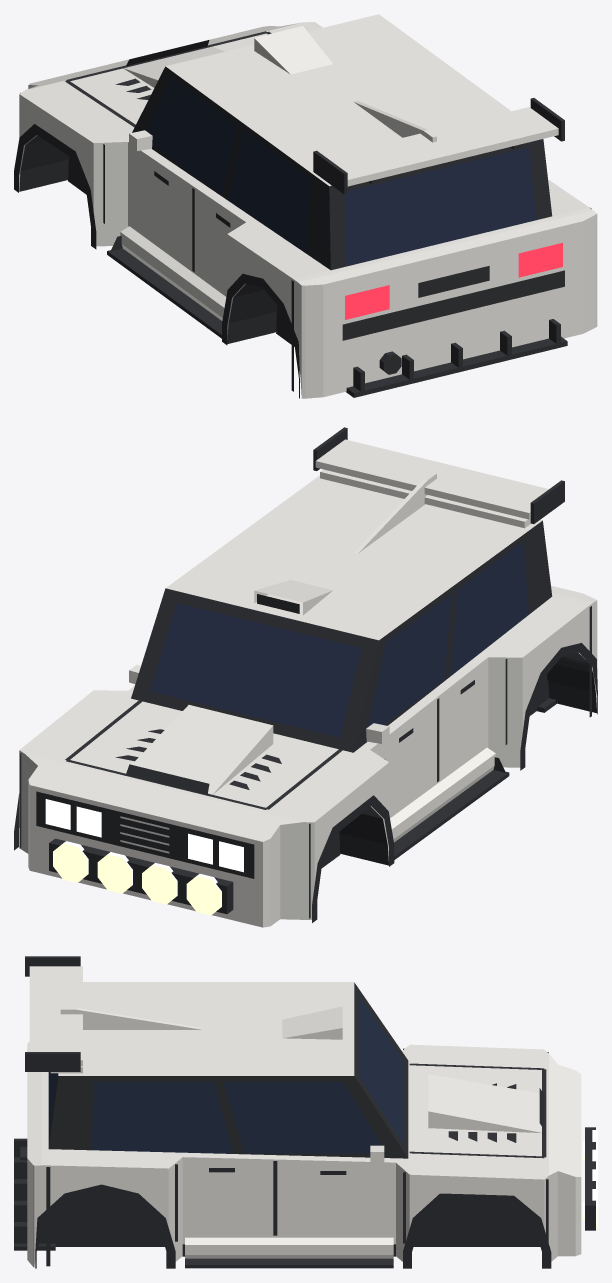
File: Furia.glb
The picture shows the model from 3 angles, top to bottom: view 1: azimuth 30°, elevation 25°; view 2: azimuth 150°, elevation 25°; view 3: azimuth 270°, elevation 25°; orthographic projection. The views are drawn at different scales.
Visible parts, largest first — view 1: BumperRear, Roof, RearWindow, Door_FL, Pillars, Opt_Wing_Rally_WingBlade, Hood, Window_FL, Window_RL, Cowl, Underbody, TailGarnish (+21 smaller); view 2: Roof, Windshield, BumperFront, Hood, Pillars, Opt_Wing_Rally_WingBlade, Opt_Hood_Scoop_HoodScoop, Door_RL, Window_FL, Window_RL, Grille, Opt_Bumper_Lamps_RallyLamp (+20 smaller); view 3: Roof, Hood, Door_FR, WheelWell, Window_FR, Window_RR, Pillars, Door_RR, BumperFront, Opt_Hood_Scoop_HoodScoop, Opt_Skirts_Side_AccSkirt_R, Opt_Wing_Rally_WingBlade (+15 smaller).
Part boxes in pixels (x1=…): BumperRear: x1=295, y1=208, x2=597, y2=398; Roof: x1=166, y1=14, x2=510, y2=186; RearWindow: x1=344, y1=147, x2=536, y2=266; Door_FL: x1=99, y1=142, x2=194, y2=273; Pillars: x1=132, y1=66, x2=552, y2=270; Opt_Wing_Rally_WingBlade: x1=325, y1=107, x2=558, y2=186; Hood: x1=19, y1=22, x2=322, y2=143; Window_FL: x1=146, y1=77, x2=237, y2=195; Window_RL: x1=228, y1=130, x2=309, y2=253; Cowl: x1=100, y1=136, x2=588, y2=279; Underbody: x1=19, y1=135, x2=277, y2=343; TailGarnish: x1=342, y1=270, x2=564, y2=340; Roof: x1=166, y1=475, x2=542, y2=640; Windshield: x1=150, y1=603, x2=361, y2=737; BumperFront: x1=25, y1=754, x2=302, y2=927; Hood: x1=19, y1=690, x2=388, y2=822; Pillars: x1=131, y1=520, x2=552, y2=752; Opt_Wing_Rally_WingBlade: x1=315, y1=439, x2=548, y2=519; Opt_Hood_Scoop_HoodScoop: x1=124, y1=705, x2=273, y2=794; Door_RL: x1=437, y1=657, x2=511, y2=783; Window_FL: x1=365, y1=594, x2=451, y2=738; Window_RL: x1=450, y1=541, x2=528, y2=675; Grille: x1=36, y1=791, x2=254, y2=878; Opt_Bumper_Lamps_RallyLamp: x1=53, y1=841, x2=221, y2=915; Roof: x1=58, y1=982, x2=354, y2=1075; Hood: x1=407, y1=1044, x2=548, y2=1179; Door_FR: x1=275, y1=1159, x2=407, y2=1261; WheelWell: x1=39, y1=1193, x2=540, y2=1246; Window_FR: x1=223, y1=1081, x2=386, y2=1153; Window_RR: x1=91, y1=1081, x2=233, y2=1153; Pillars: x1=48, y1=982, x2=408, y2=1158; Door_RR: x1=173, y1=1157, x2=275, y2=1261; BumperFront: x1=549, y1=1054, x2=581, y2=1261; Opt_Hood_Scoop_HoodScoop: x1=428, y1=1074, x2=541, y2=1132; Opt_Skirts_Side_AccSkirt_R: x1=185, y1=1237, x2=393, y2=1258; Opt_Wing_Rally_WingBlade: x1=29, y1=966, x2=82, y2=1066.
Bounding box in the file's own units: 6.7 × 4.77 × 12.6.
